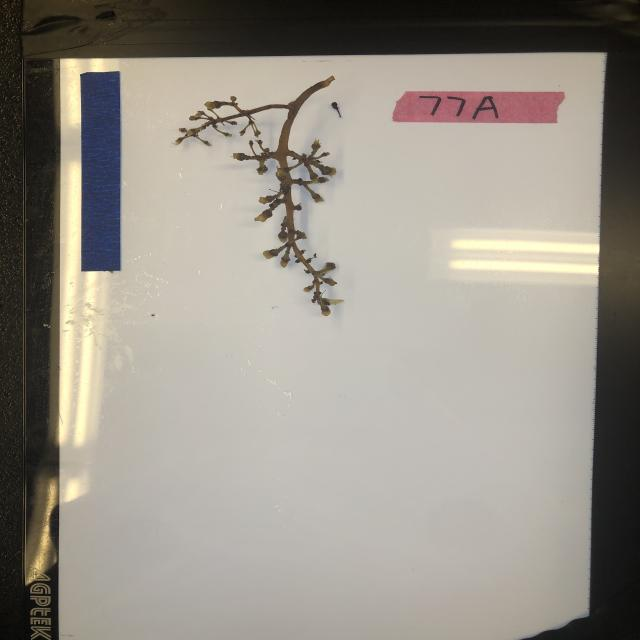index: (392, 89, 566, 125)
measure_label: (78, 70, 124, 271)
rachis_cluster: (173, 75, 363, 317)
